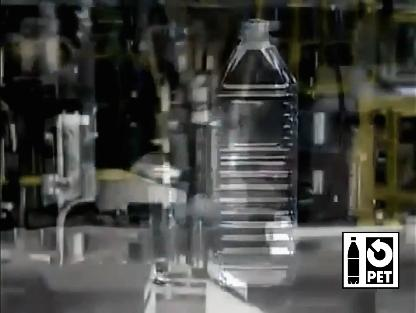Plastic Bottle: (218, 19, 298, 287)
